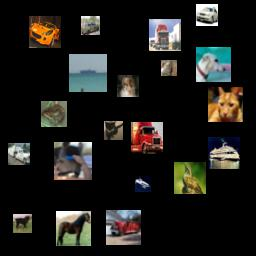automobile: (29, 16, 61, 48), (196, 4, 218, 26), (81, 16, 100, 35)
bird: (174, 162, 206, 194)
cat: (208, 87, 243, 122), (104, 121, 123, 140), (161, 60, 177, 76)
dog: (196, 47, 231, 82), (117, 75, 139, 97), (13, 214, 32, 233)
frog: (41, 101, 67, 127)
ship: (69, 54, 107, 92), (208, 137, 240, 169), (135, 176, 151, 192)
truck: (106, 210, 141, 245), (131, 122, 163, 154), (149, 19, 181, 51), (8, 143, 30, 165)
